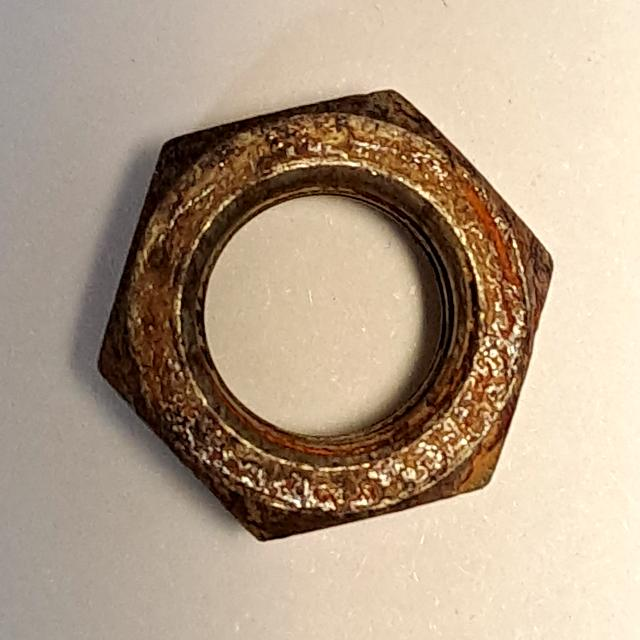Rust: (83, 77, 564, 555)
